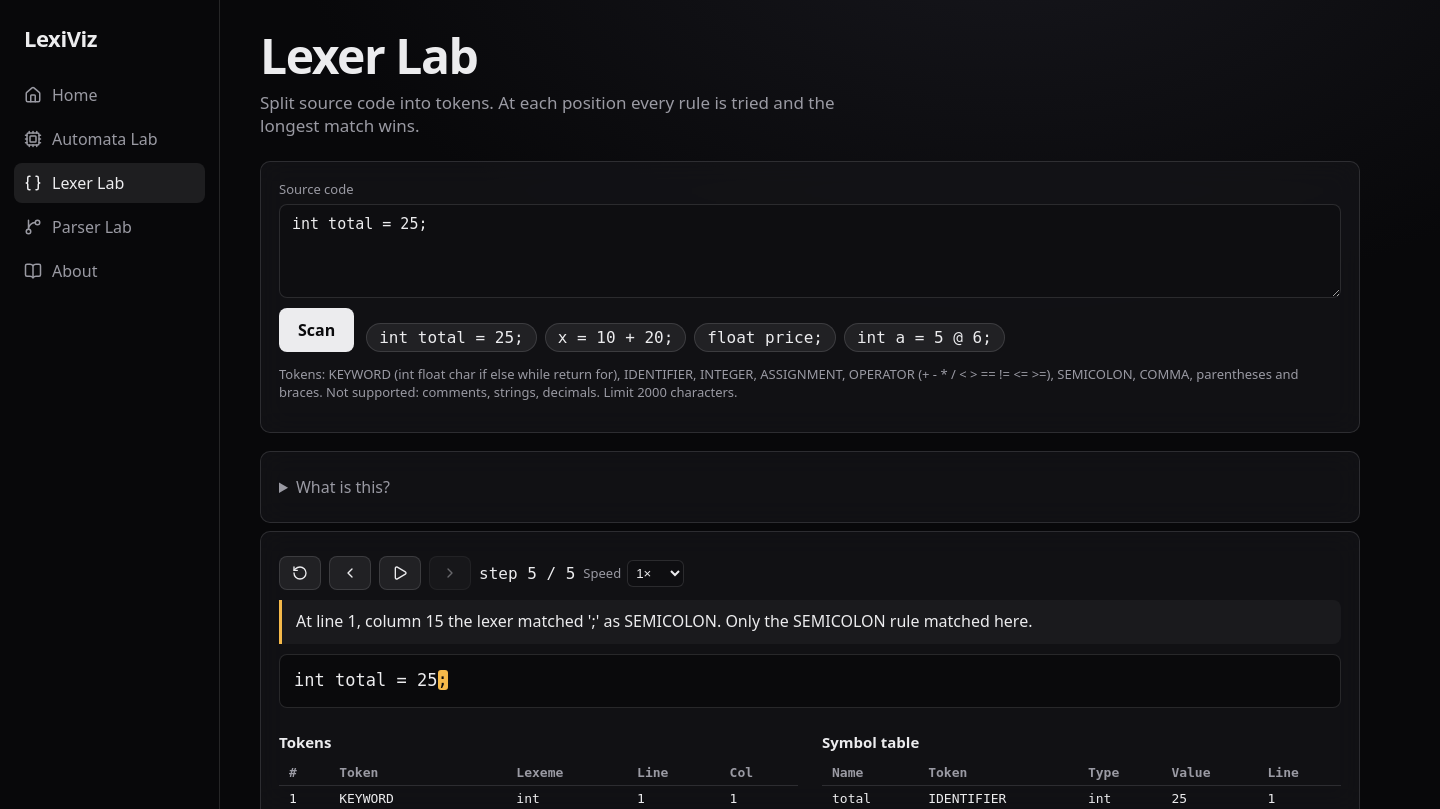
Test: Lexer Lab › reports an unexpected character with its position and keeps going
Replace the text in the text box labelled "Source code" with "int a = 5 @ 6;" at (810, 251), box [279,204,1341,298]
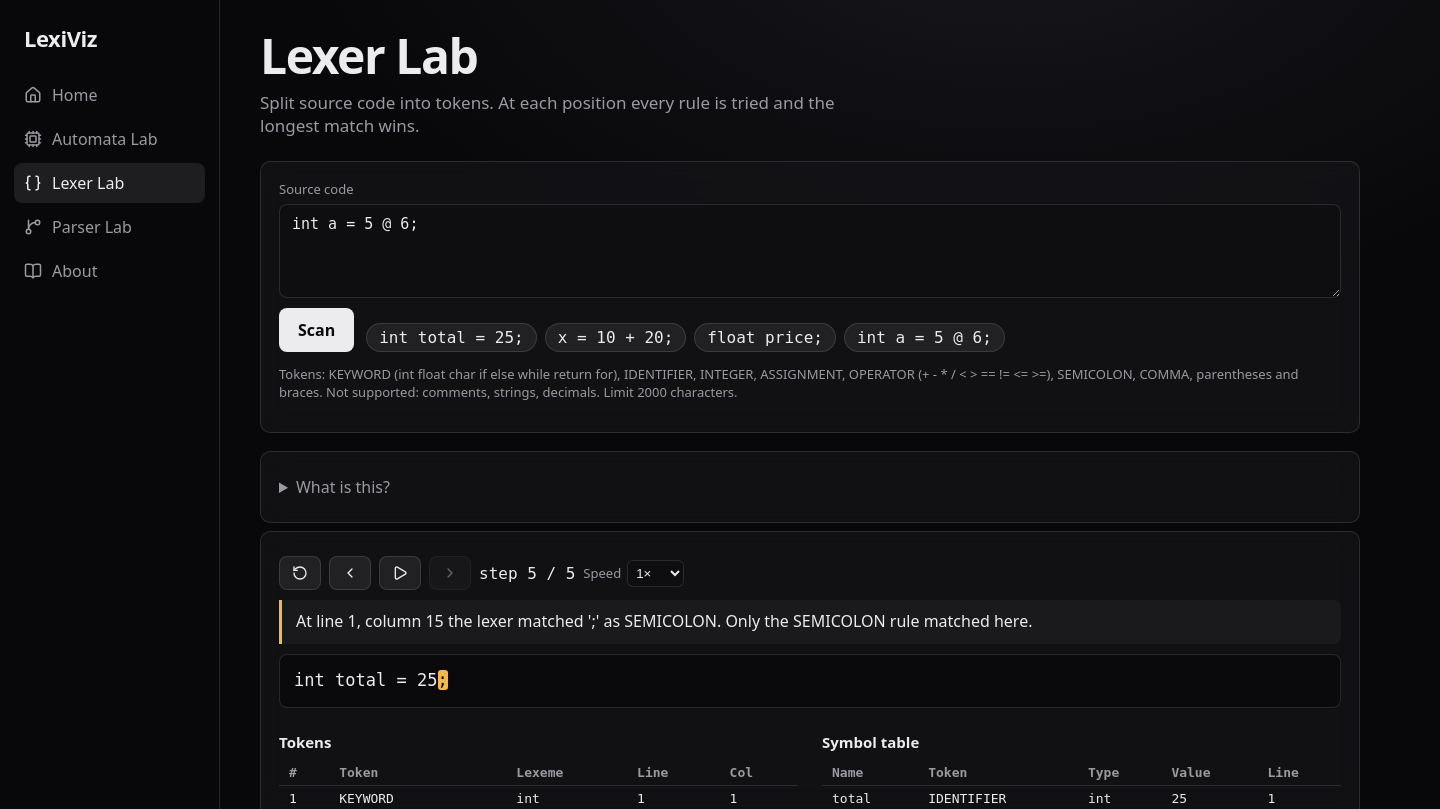
Click the button "Scan" at (317, 330), box [279,308,354,352]
(page scrolled)
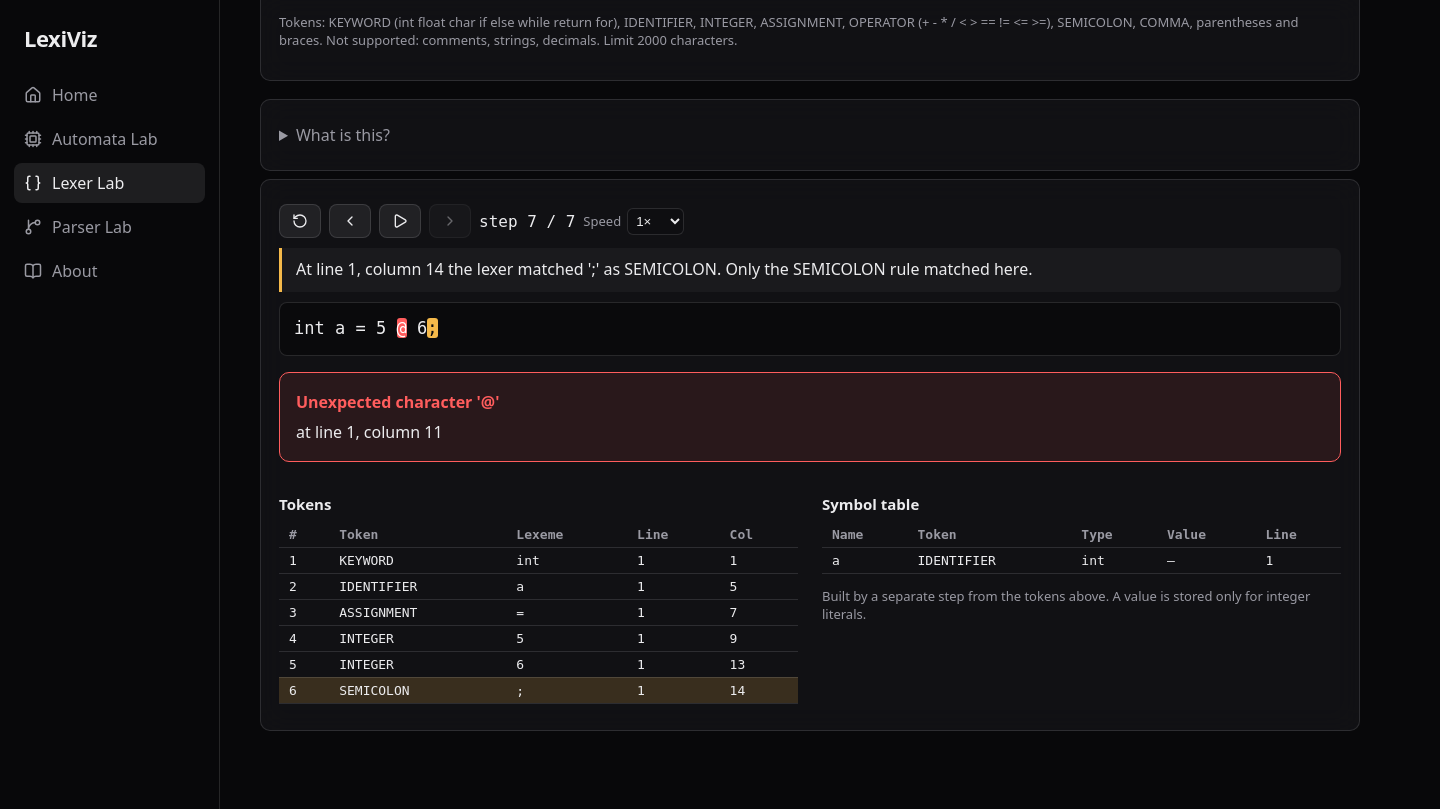
Expected: the message named "Lexical errors" reads "Unexpected character '@' at line 1, column 11", [279,372,1341,462]
